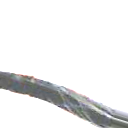crackTip: (1, 71, 128, 127)
